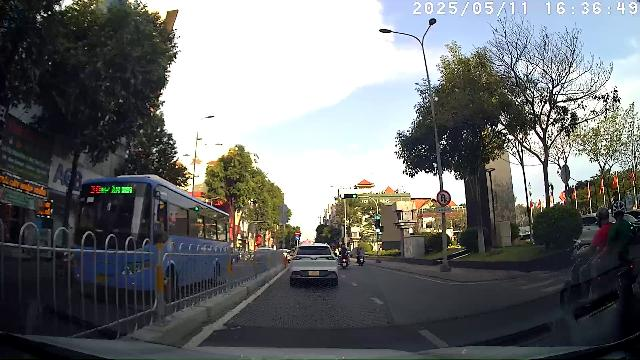124b-cam-oto-quay-dau-xe: (437, 190, 451, 206)
